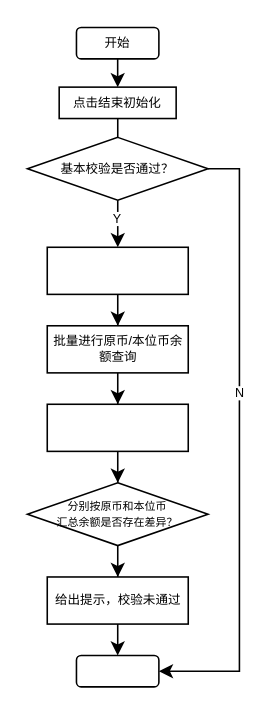
This 279x714 diagram has some shape labels left out. The centre of each missing label's shape, as x and y in pixels:
"将账簿按照账簿类型、 科目表、当前期间分组" belongs at [117,270].
"批量进行原币/本位币初始化数据查询" belongs at [117,427].
"结束" belongs at [117,670].
